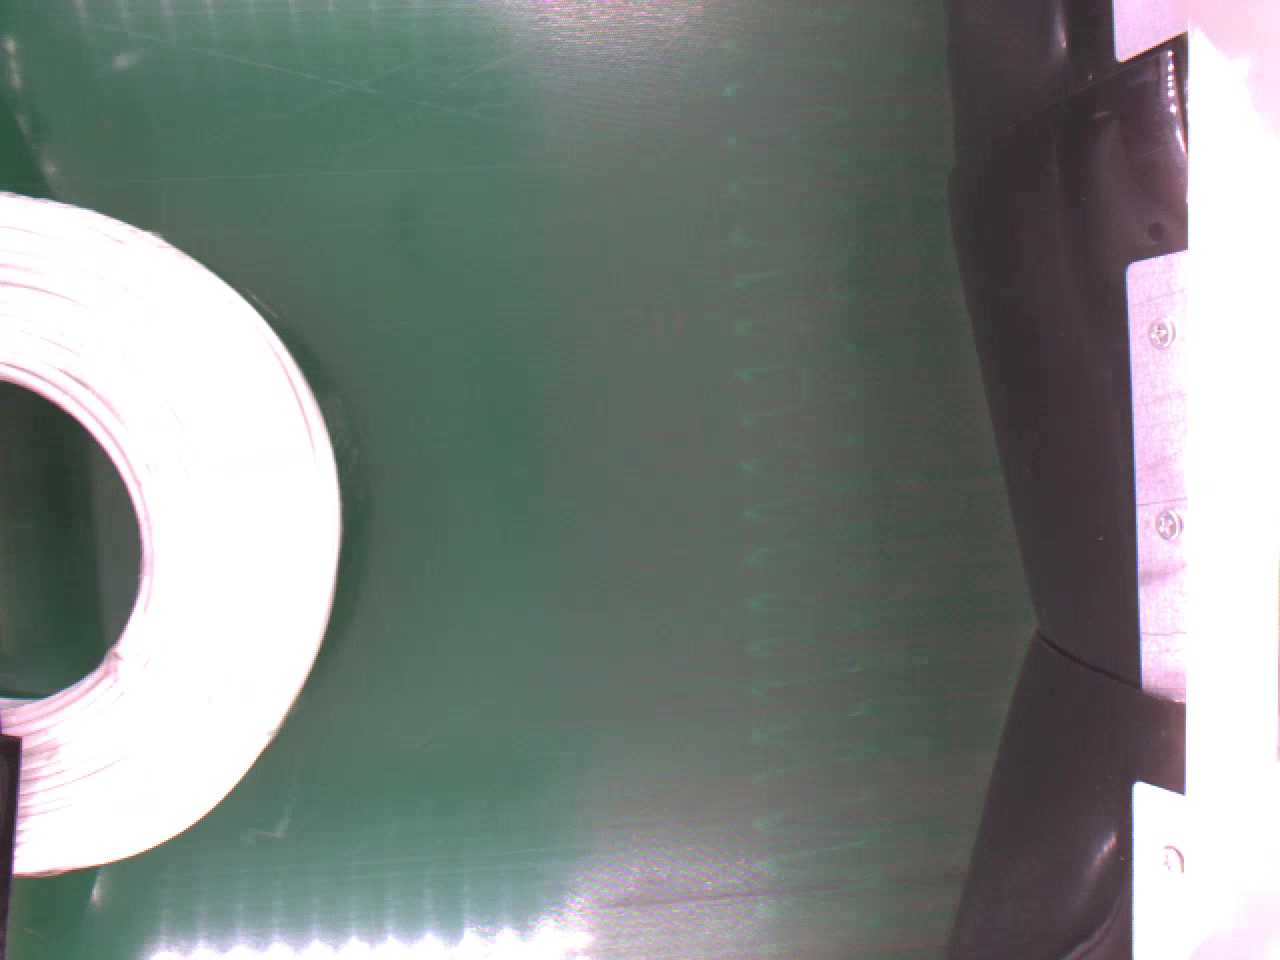white: (0, 187, 347, 876)
